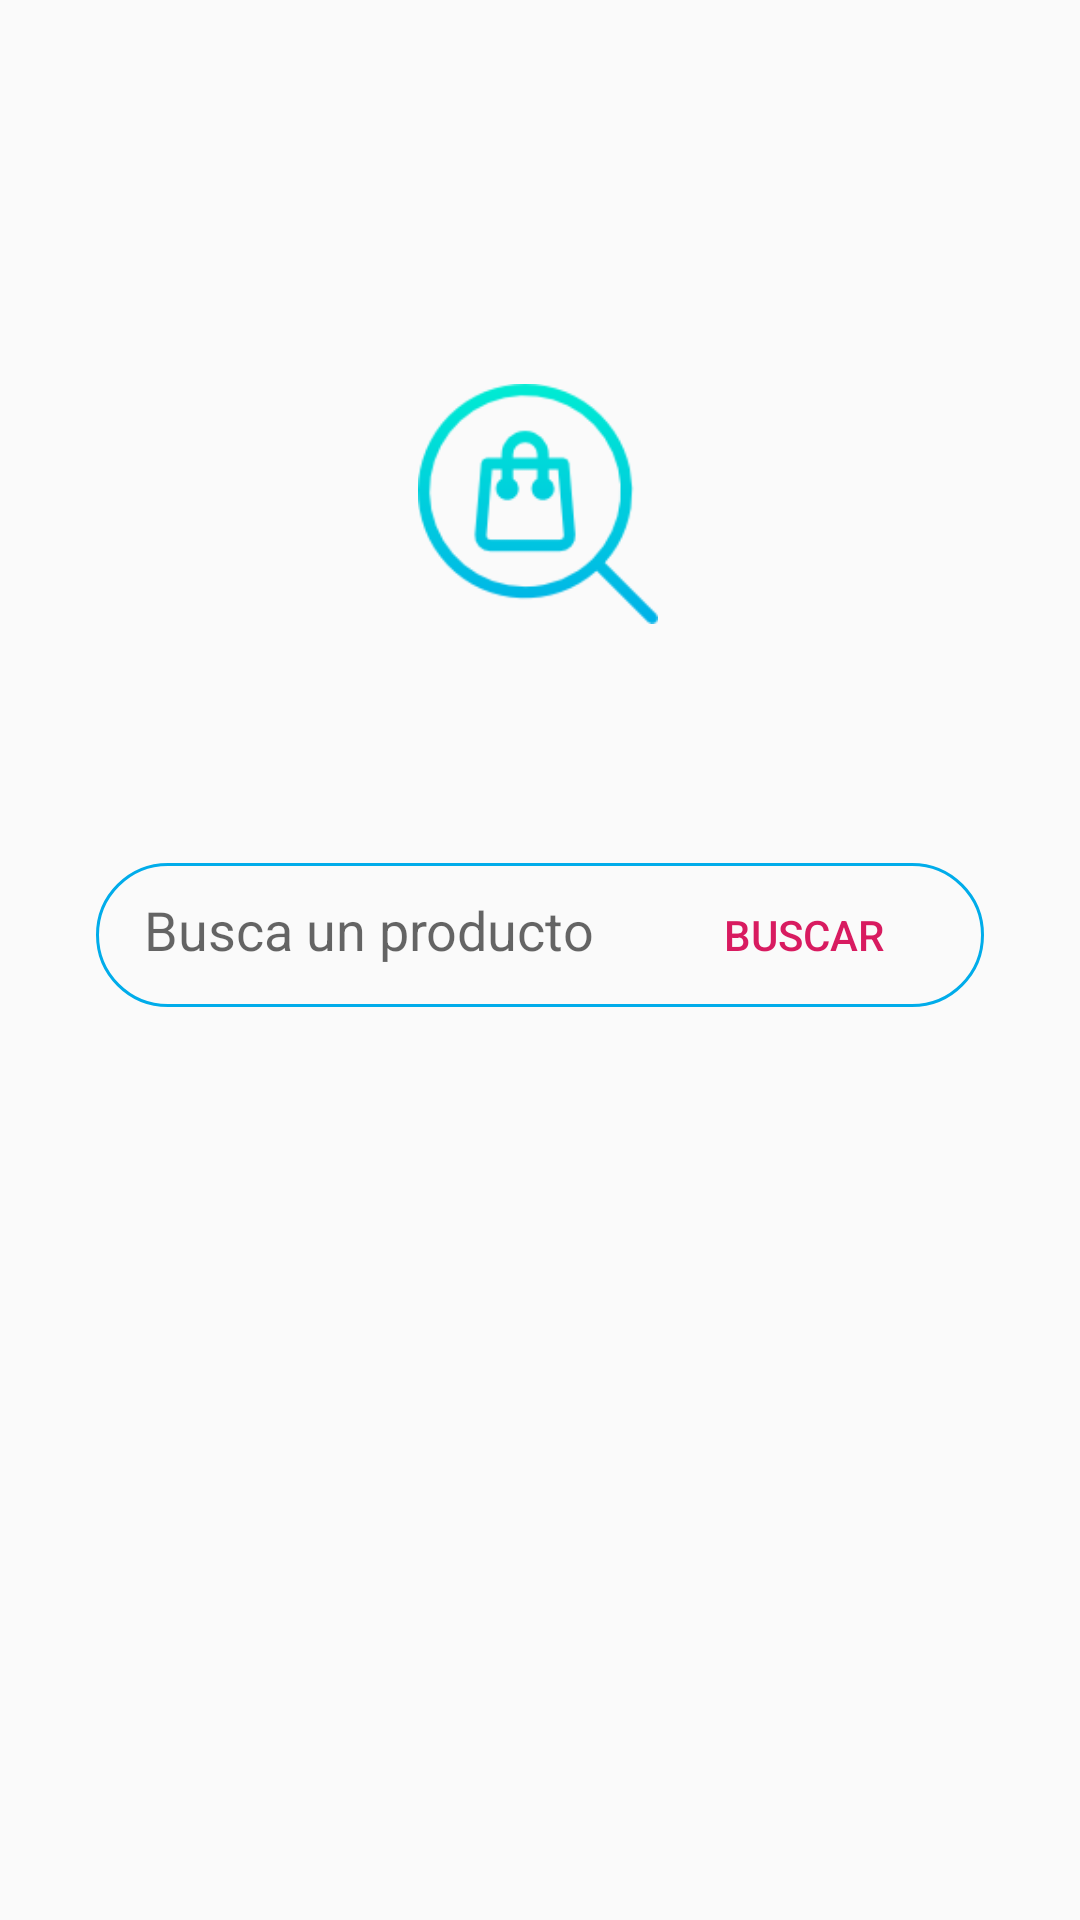

Screen size 1080 × 1920. Icon name, then its box in pixels as [x1,y1,x2,y2]:
search: [418,384,658,624]
